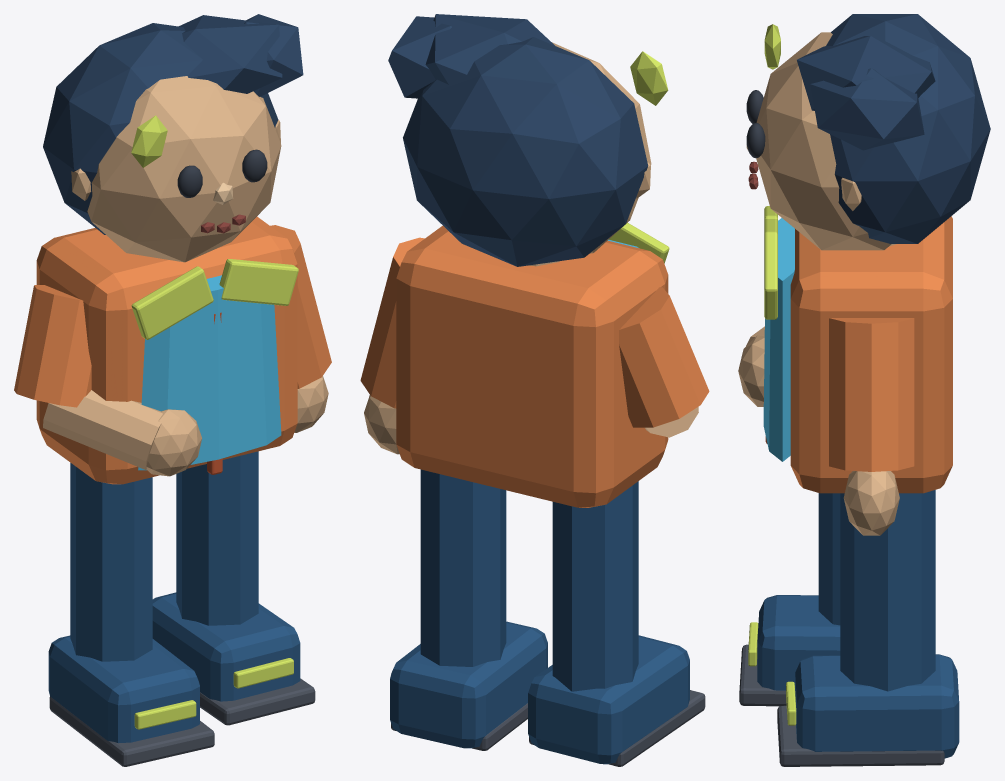
File: friend-b.glb
3 views of the same model, side by side, from view 1: azimuth 30°, elevation 25°; view 2: azimuth 150°, elevation 25°; view 3: azimuth 270°, elevation 25° (orthographic). The views are drawn at different scales.
Visible parts, largest first — view 1: friend_b_head, friend_b_jacket, friend_b_shirt, friend_b_leg_L, friend_b_hair_back, friend_b_leg_R, friend_b_shoe_L, friend_b_shoe_R, friend_b_sleeve_L_upper, friend_b_sweep_main, friend_b_forearm_L, friend_b_shoe_L_sole (+12 smaller); view 2: friend_b_jacket, friend_b_hair_back, friend_b_leg_L, friend_b_leg_R, friend_b_shoe_L, friend_b_shoe_R, friend_b_sleeve_L_upper, friend_b_sweep_main, friend_b_sleeve_R, friend_b_sweep_tip, friend_b_shoe_L_sole, friend_b_hand_R (+5 smaller); view 3: friend_b_jacket, friend_b_hair_back, friend_b_leg_R, friend_b_sleeve_R, friend_b_shoe_R, friend_b_head, friend_b_sweep_tip, friend_b_shoe_L, friend_b_shirt, friend_b_sweep_main, friend_b_shoe_R_sole, friend_b_hand_R (+7 smaller).
Part boxes in pixels (<box>): friend_b_head: <box>87,76,281,262</box>; friend_b_jacket: <box>36,216,297,484</box>; friend_b_shirt: <box>138,275,281,470</box>; friend_b_leg_L: <box>70,463,152,661</box>; friend_b_hair_back: <box>43,23,278,234</box>; friend_b_leg_R: <box>176,451,258,625</box>; friend_b_shoe_L: <box>48,635,199,743</box>; friend_b_shoe_R: <box>152,592,300,701</box>; friend_b_sleeve_L_upper: <box>14,285,91,407</box>; friend_b_sweep_main: <box>179,15,282,93</box>; friend_b_forearm_L: <box>43,390,162,469</box>; friend_b_shoe_L_sole: <box>49,696,214,766</box>; friend_b_jacket: <box>396,225,668,507</box>; friend_b_hair_back: <box>403,37,648,266</box>; friend_b_leg_L: <box>552,481,638,691</box>; friend_b_leg_R: <box>420,469,506,666</box>; friend_b_shoe_L: <box>528,635,689,764</box>; friend_b_shoe_R: <box>390,621,547,748</box>; friend_b_sleeve_L_upper: <box>619,287,709,427</box>; friend_b_sweep_main: <box>425,14,554,84</box>; friend_b_sleeve_R: <box>360,237,424,408</box>; friend_b_sweep_tip: <box>388,16,451,98</box>; friend_b_shoe_L_sole: <box>529,690,705,766</box>; friend_b_hand_R: <box>364,395,399,454</box>; friend_b_jacket: <box>790,216,952,493</box>; friend_b_hair_back: <box>826,14,990,243</box>; friend_b_leg_R: <box>840,490,935,691</box>; friend_b_sleeve_R: <box>829,318,914,471</box>; friend_b_shoe_R: <box>795,654,959,758</box>; friend_b_head: <box>756,32,891,250</box>; friend_b_sweep_tip: <box>810,68,924,150</box>; friend_b_shoe_L: <box>757,595,840,690</box>; friend_b_shirt: <box>763,218,794,461</box>; friend_b_sweep_main: <box>797,36,935,110</box>; friend_b_shoe_R_sole: <box>777,705,944,766</box>; friend_b_hand_R: <box>843,471,899,535</box>.
Size of the model in its own units: 0.7038 by 1.42 by 0.467.
